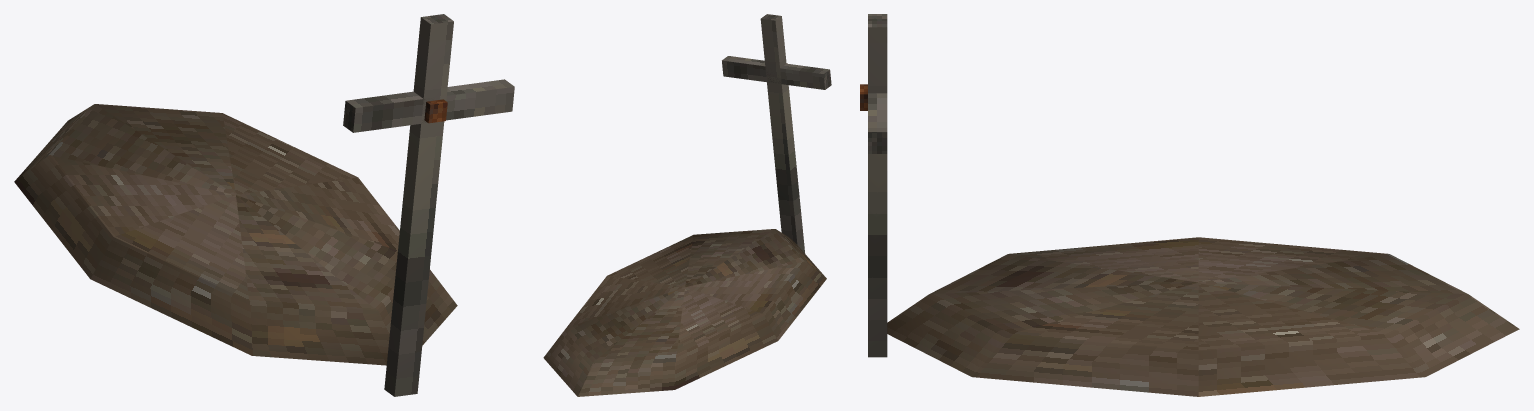
The model's file is cross_wood.glb.
The picture shows the model from 3 angles, left to right: view 1: azimuth 30°, elevation 25°; view 2: azimuth 150°, elevation 25°; view 3: azimuth 270°, elevation 25°; orthographic projection. The views are drawn at different scales.
Parts seen in each view (by area): view 1: cross_wood; view 2: cross_wood; view 3: cross_wood.
Boxes of the visible parts, x1=… form: cross_wood: x1=14, y1=14, x2=514, y2=396; cross_wood: x1=543, y1=14, x2=831, y2=396; cross_wood: x1=860, y1=14, x2=1519, y2=396.
Bounding box in the file's own units: 1 × 1.2 × 2.05.
Materials: 1 (1 with a texture image).
